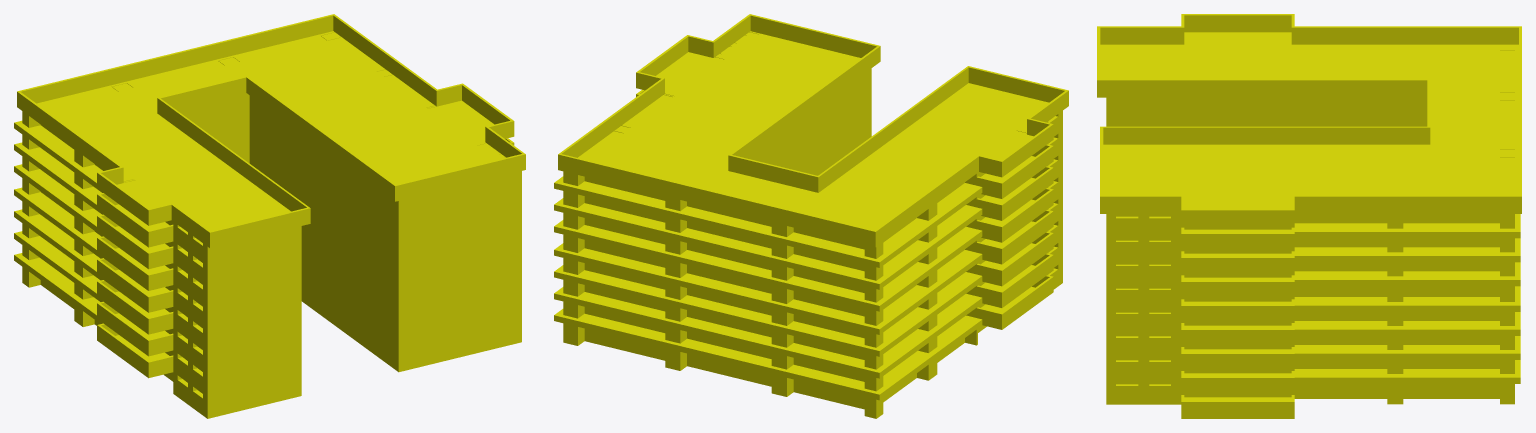
Rendered from cg_8sBuilding.fbx.
3 renders of one model, left to right at view 1: azimuth 30°, elevation 25°; view 2: azimuth 150°, elevation 25°; view 3: azimuth 270°, elevation 25°, orthographic. The views are drawn at different scales.
Visible parts, largest first — view 1: Building8_GEO; view 2: Building8_GEO; view 3: Building8_GEO.
Part boxes in pixels (box(x1,y1,x2,y2)): Building8_GEO: box(14, 14, 525, 418); Building8_GEO: box(554, 14, 1068, 418); Building8_GEO: box(1097, 14, 1521, 418).
Size of the model in its own units: 5278 by 2615 by 4826.
